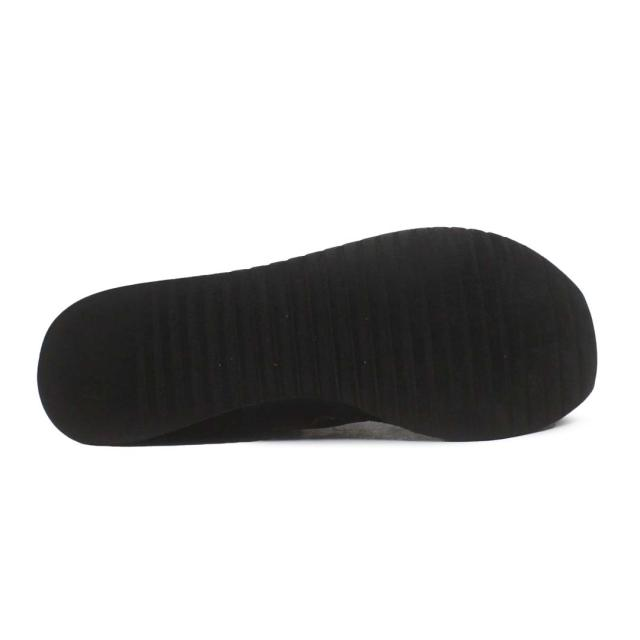outersole: (37, 225, 597, 445)
